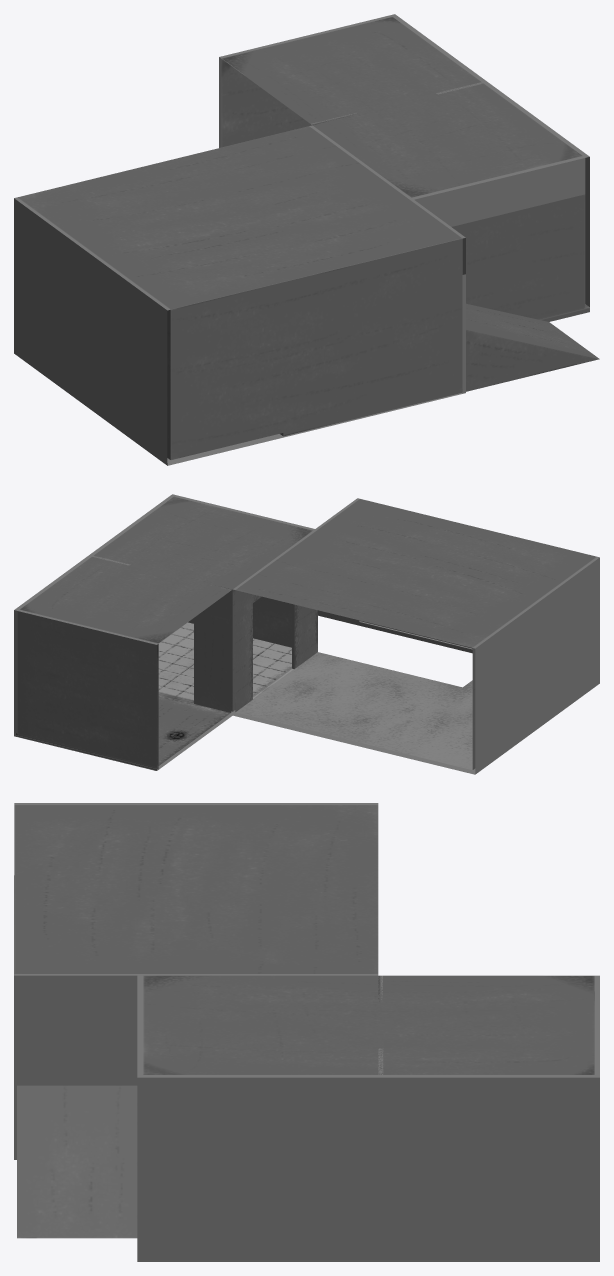
File: UpstairsNoBedroom (1).fbx
3 renders of one model, top to bottom at view 1: azimuth 30°, elevation 25°; view 2: azimuth 150°, elevation 25°; view 3: azimuth 270°, elevation 25°, orthographic. The views are drawn at different scales.
Parts seen in each view (by area): view 1: UpStairs.002; view 2: UpStairs.002; view 3: UpStairs.002.
Boxes of the visible parts, x1,y1,x2,y2 form: UpStairs.002: (14,14,599,465); UpStairs.002: (14,494,599,774); UpStairs.002: (14,803,599,1261).
Bounding box in the file's own units: 1626 × 509 × 1466.
